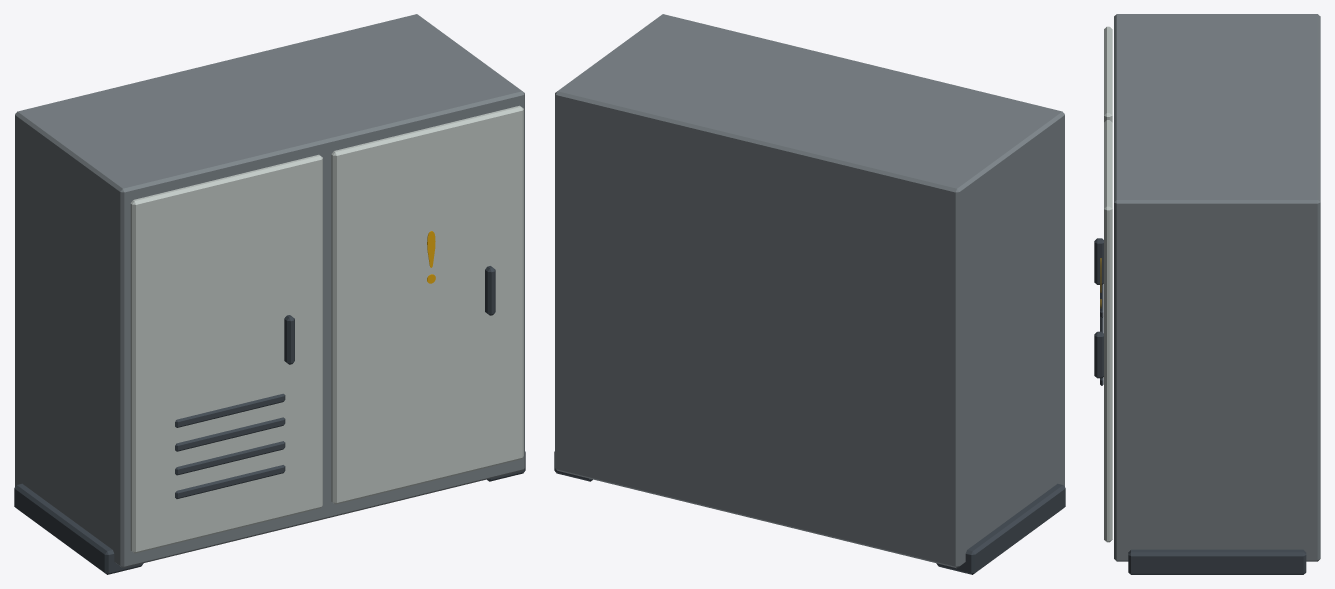
The model's file is ElectricalServiceCabinet.fbx.
3 views of the same model, side by side, from view 1: azimuth 30°, elevation 25°; view 2: azimuth 150°, elevation 25°; view 3: azimuth 270°, elevation 25° (orthographic). The views are drawn at different scales.
Visible parts, largest first — view 1: ElectricalServiceCabinet; view 2: ElectricalServiceCabinet; view 3: ElectricalServiceCabinet.
Part boxes in pixels (x1=…): ElectricalServiceCabinet: x1=14, y1=14, x2=525, y2=574; ElectricalServiceCabinet: x1=554, y1=14, x2=1065, y2=574; ElectricalServiceCabinet: x1=1094, y1=14, x2=1320, y2=574.
Size of the model in its own units: 130 by 115 by 63.5.
1 material, 1 textured.
